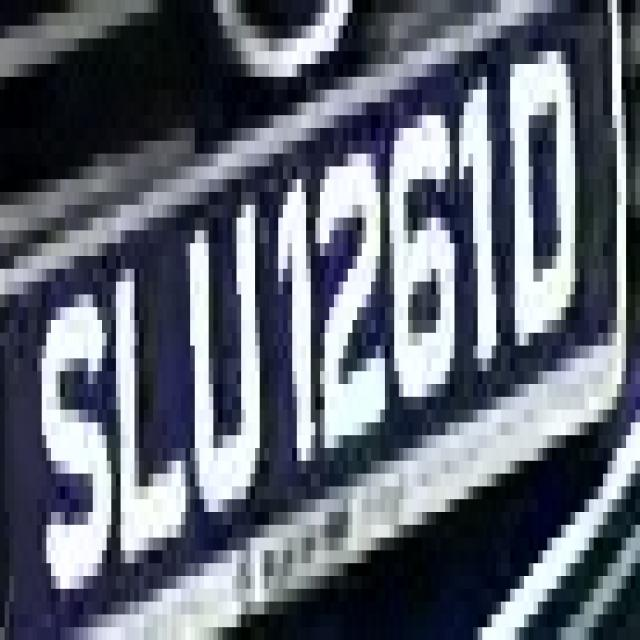1: (264, 154, 316, 512), (450, 64, 501, 358)
2: (302, 102, 389, 461)
6: (376, 77, 468, 435)
D: (496, 26, 594, 371)
L: (111, 218, 181, 576)
S: (42, 256, 111, 602)
U: (180, 179, 274, 512)
